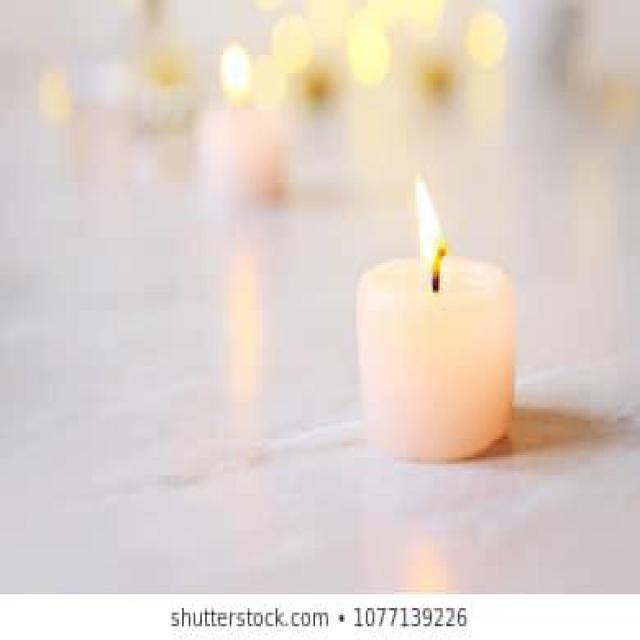Fire: (414, 176, 452, 281)
